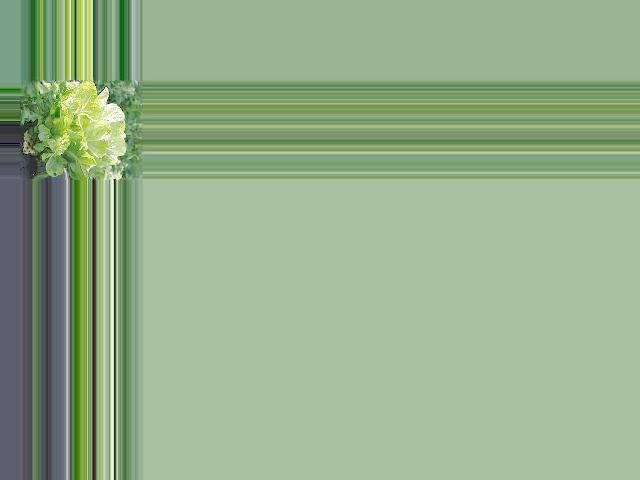lettuce: (40, 90, 124, 176)
